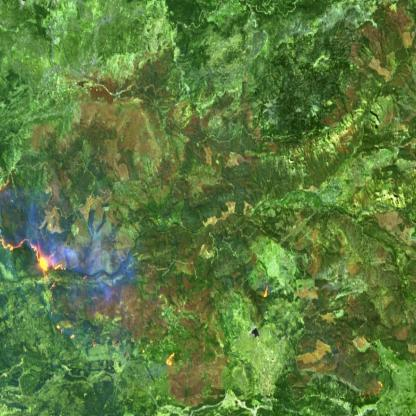fire: (0, 224, 74, 281), (156, 342, 186, 376), (254, 274, 279, 308)
